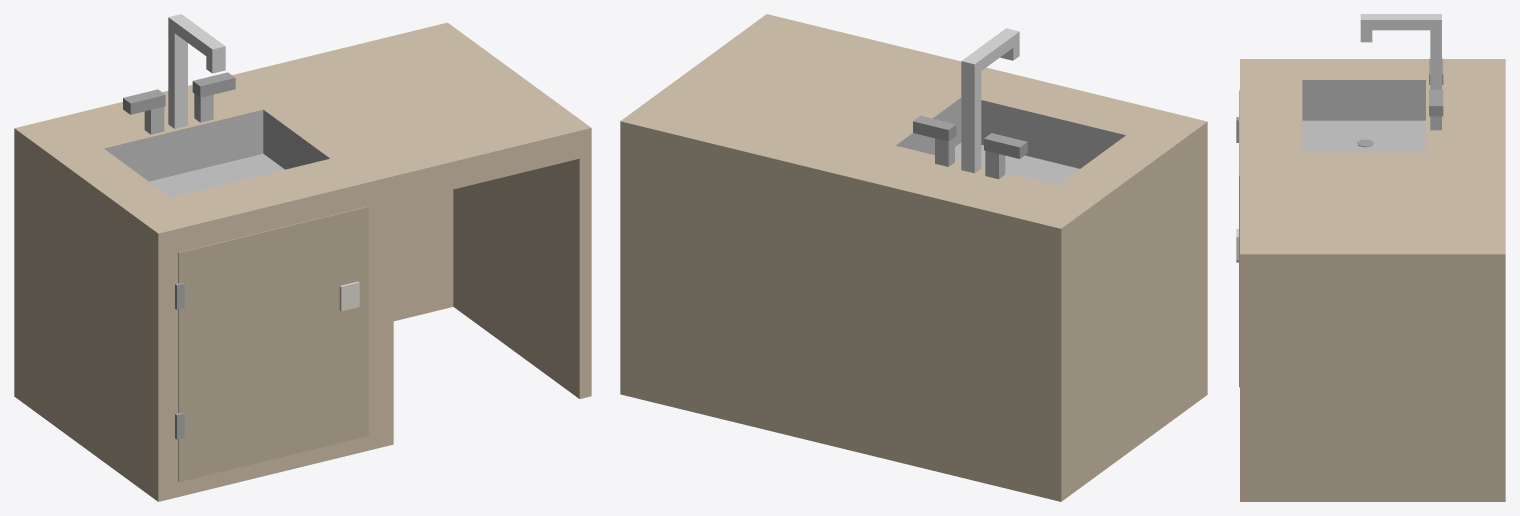
The model's file is table1.fbx.
3 views of the same model, side by side, from view 1: azimuth 30°, elevation 25°; view 2: azimuth 150°, elevation 25°; view 3: azimuth 270°, elevation 25° (orthographic). The views are drawn at different scales.
Parts seen in each view (by area): view 1: Cube_8; view 2: Cube_8; view 3: Cube_8.
Boxes of the visible parts, x1,y1,x2,y2 form: Cube_8: [14, 14, 591, 501]; Cube_8: [620, 14, 1207, 501]; Cube_8: [1236, 14, 1505, 501].
Bounding box in the file's own units: 169 × 140 × 98.77.
